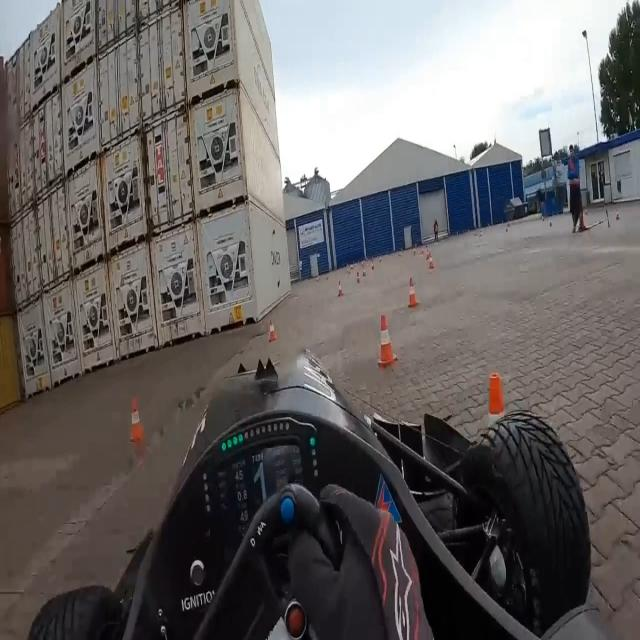Orange cone: (477, 357, 522, 454), (119, 384, 155, 462), (371, 297, 404, 382), (326, 275, 359, 315), (402, 273, 428, 320), (421, 241, 444, 277), (262, 315, 287, 348), (356, 259, 383, 283)
